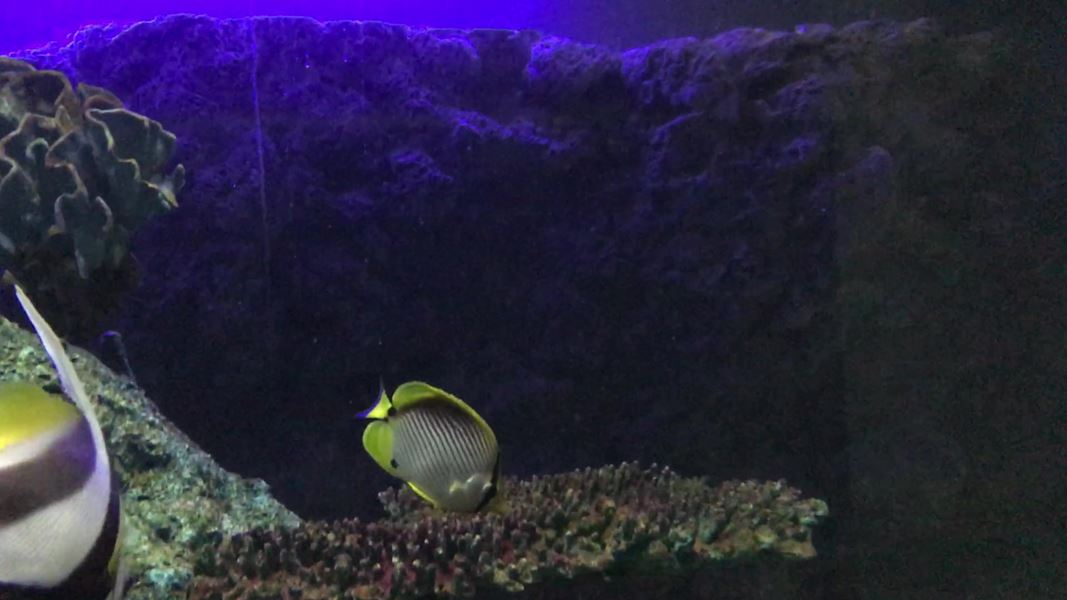Black-backed butterflyfish: (348, 362, 527, 523)
